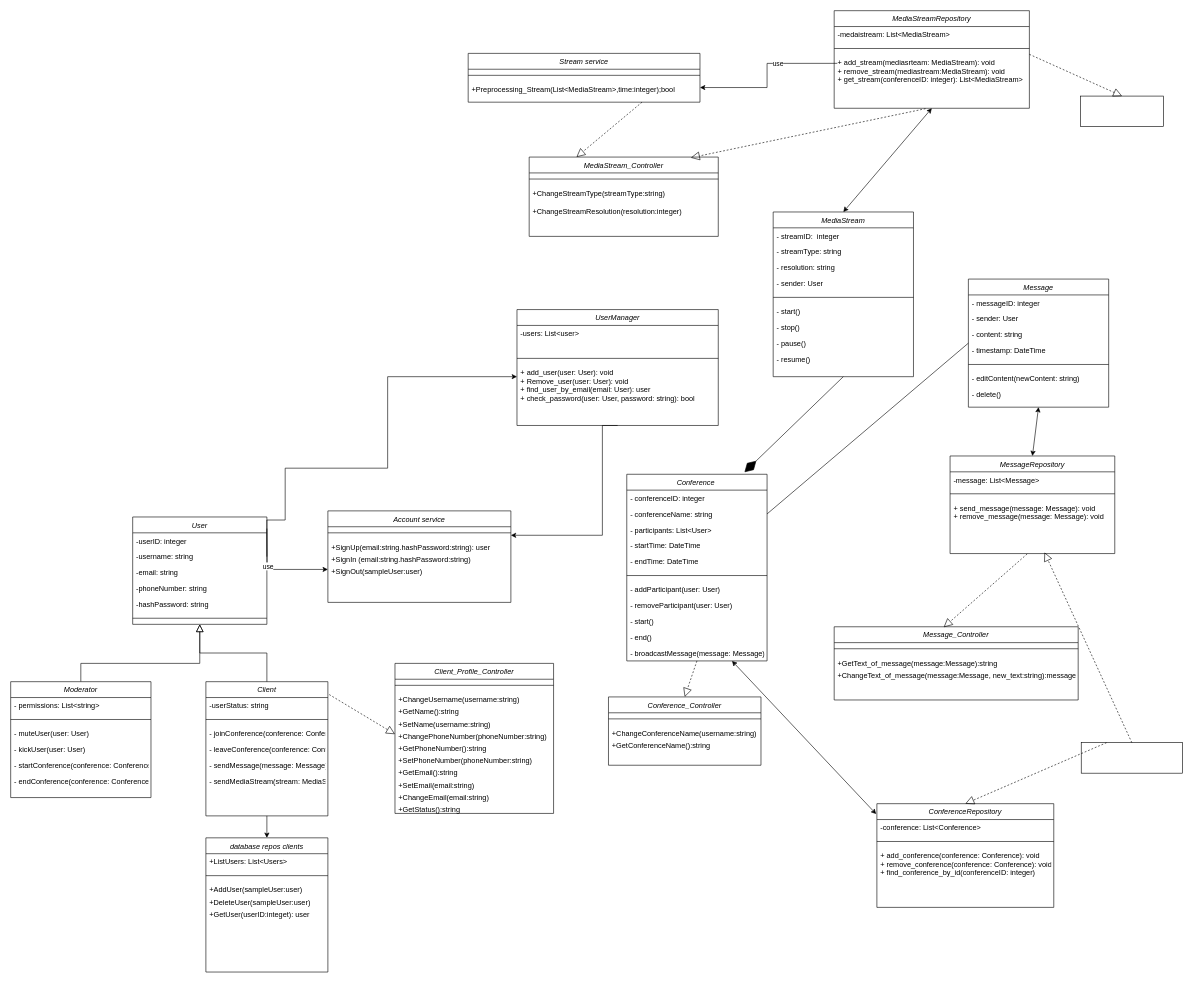
This 1193x983 diagram has some shape labels left out. Each missing label, with the centre of its shape:
«interface» IBaseContentRepository<T>: point (1131, 757)
«interface» streamRepoInterface: point (1122, 111)
